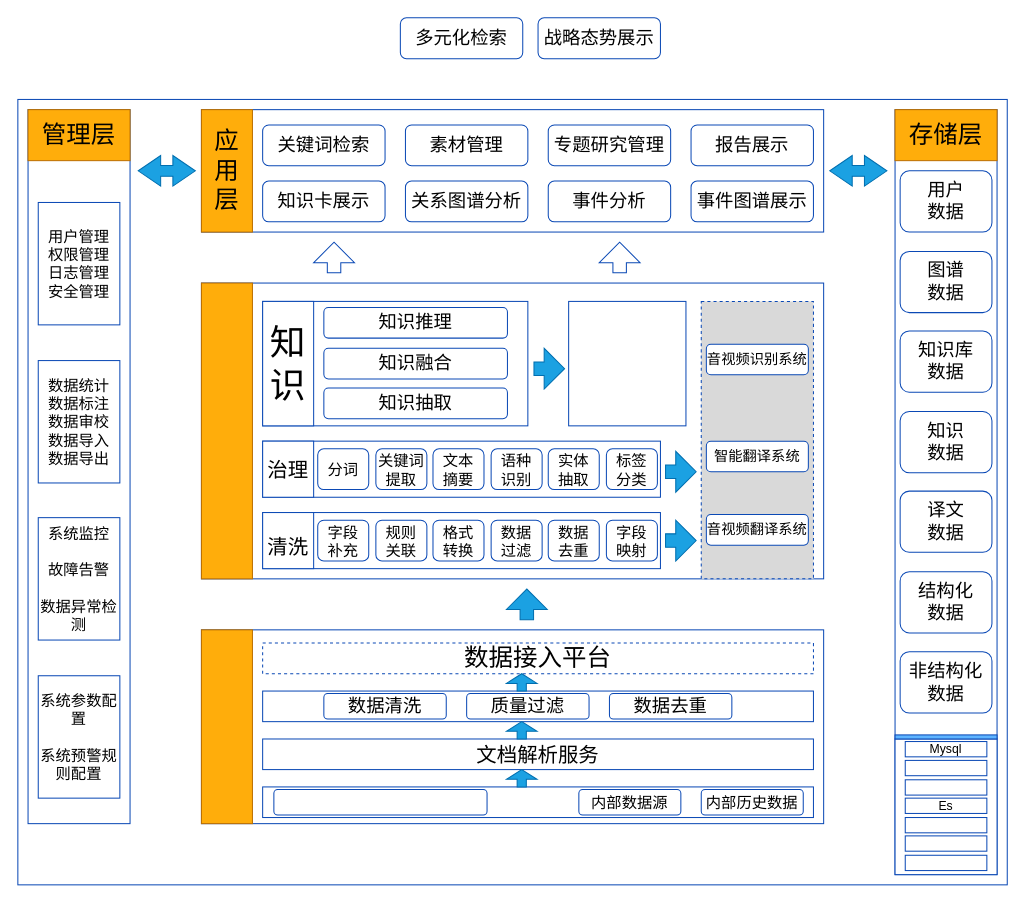
Some shapes in this 1025 by 903 pixel diagram are drawn without their labels. Here are the shapes that lost their labels. From the top down, the centre of each, then its label:
At point 627,363: "本体建模".
At point 226,430: "知 识 层".
At point 226,726: "数 据 层".
At point 380,801: "网情数据".
